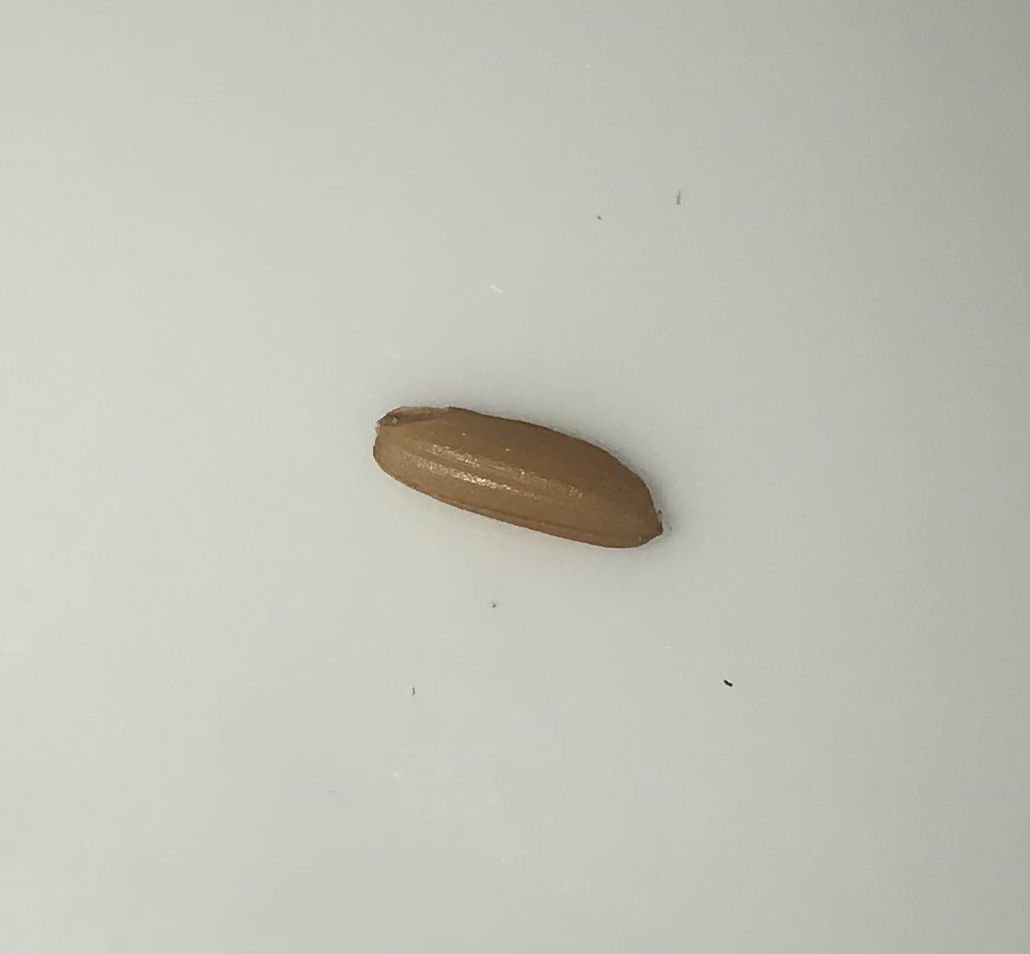Gao Lut Dien Bien: (378, 388, 672, 560)
